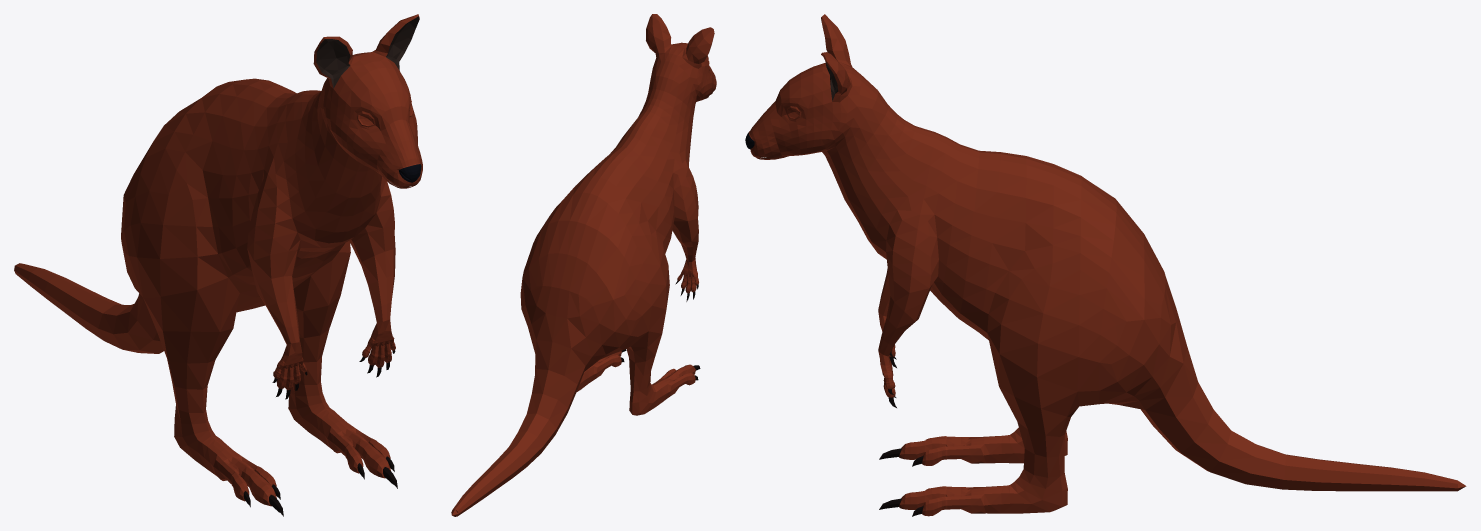
The model's file is wallaby_wallaby_triangulated.obj.
3 views of the same model, side by side, from view 1: azimuth 30°, elevation 25°; view 2: azimuth 150°, elevation 25°; view 3: azimuth 270°, elevation 25° (orthographic). The views are drawn at different scales.
Size of the model in its own units: 0.5161 by 1.34 by 1.92.
